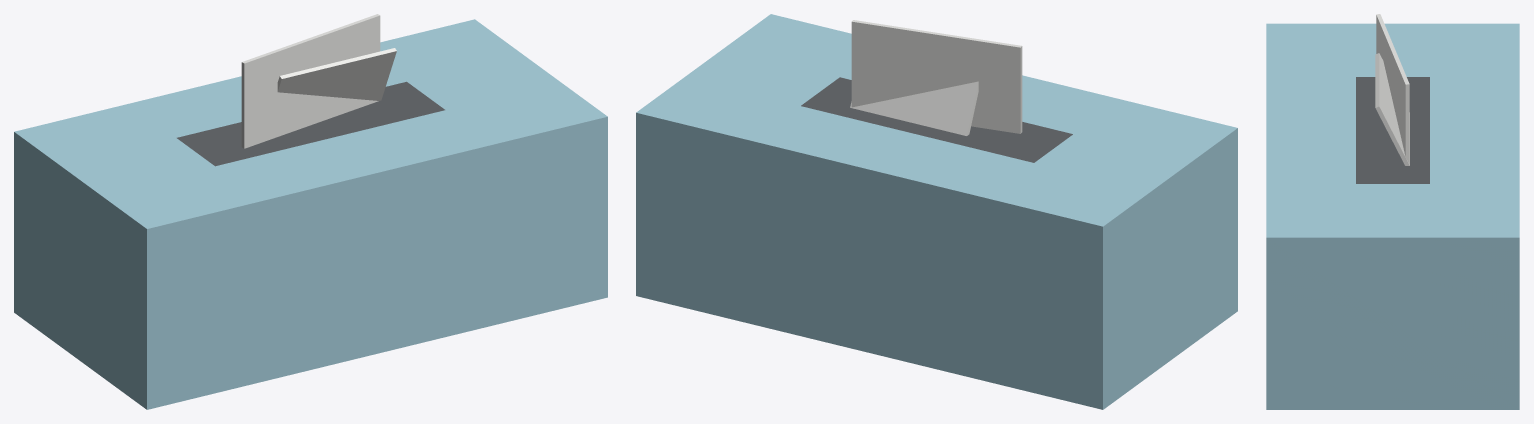
Rendered from Tissue_Box.fbx.
3 views of the same model, side by side, from view 1: azimuth 30°, elevation 25°; view 2: azimuth 150°, elevation 25°; view 3: azimuth 270°, elevation 25° (orthographic). The views are drawn at different scales.
Parts seen in each view (by area): view 1: Tissue_Box; view 2: Tissue_Box; view 3: Tissue_Box.
Part boxes in pixels (x1,y1,x2,y2): Tissue_Box: [14, 14, 607, 409]; Tissue_Box: [636, 14, 1237, 409]; Tissue_Box: [1266, 14, 1519, 409].
Size of the model in its own units: 0.24 by 0.1325 by 0.12.
